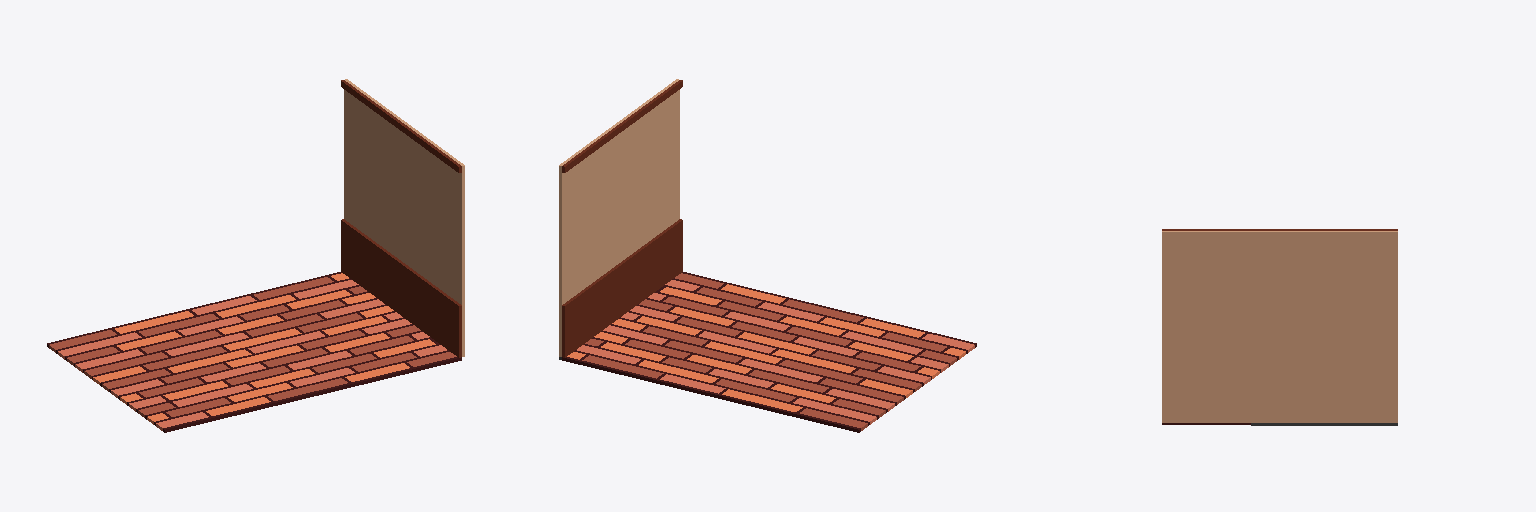
The picture shows the model from 3 angles: view 1: azimuth 30°, elevation 25°; view 2: azimuth 150°, elevation 25°; view 3: azimuth 270°, elevation 25°; orthographic projection.
Visible parts, largest first — view 1: object 1; view 2: object 1; view 3: object 1.
Part boxes in pixels (bbox=[...]): object 1: bbox=[47, 79, 464, 432]; object 1: bbox=[559, 79, 976, 432]; object 1: bbox=[1162, 229, 1397, 425].
Bounding box in the file's own units: 9.7 × 6 × 6.6.
Materials: 1 (1 with a texture image).